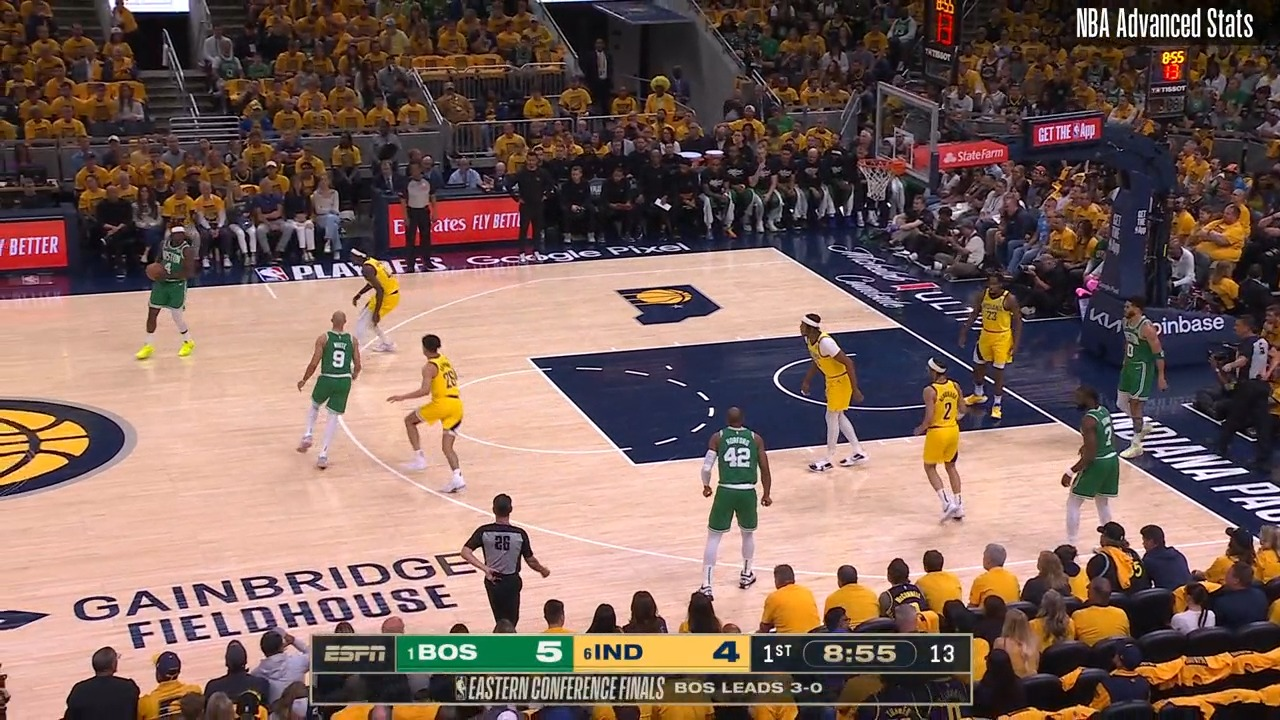basketball: (142, 263, 171, 281)
